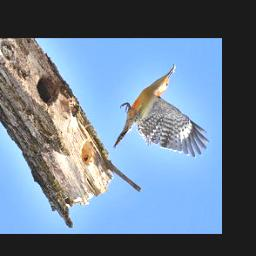Woodpecker: (113, 63, 211, 160)
